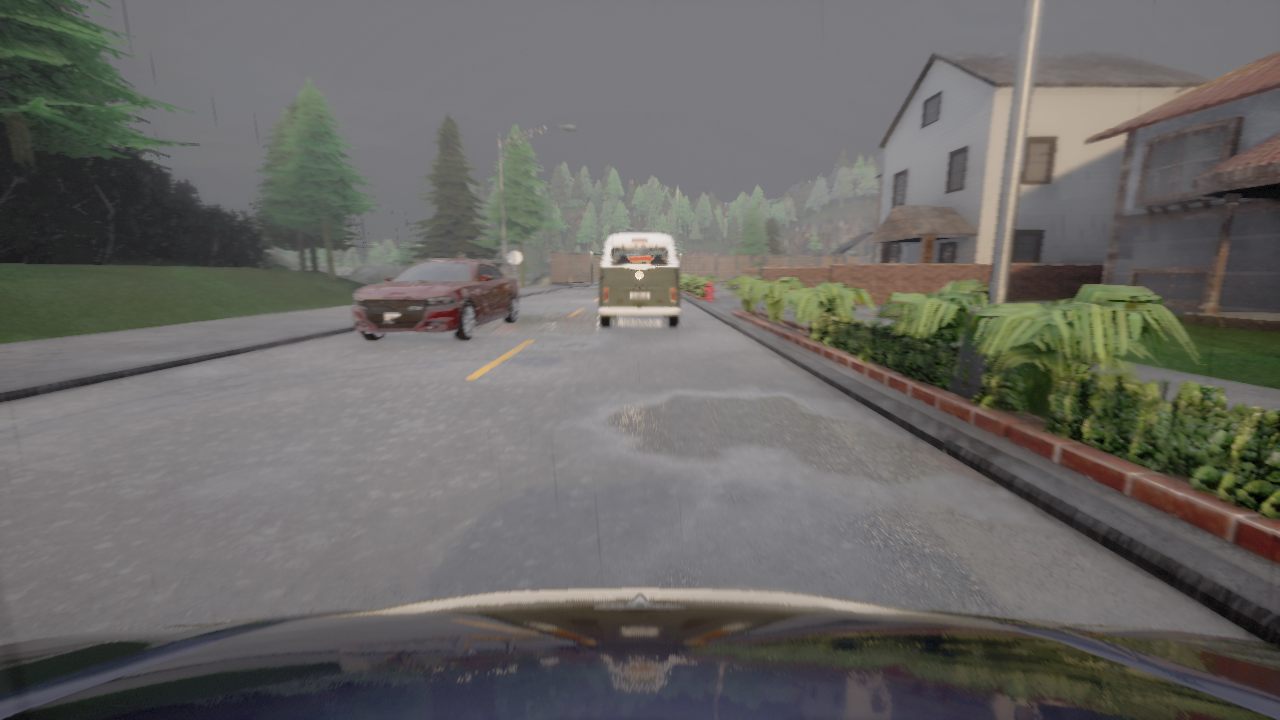cyclist: (0, 588, 1279, 719), (352, 259, 519, 340), (598, 233, 681, 328)
pedestrian: (457, 252, 464, 258)
